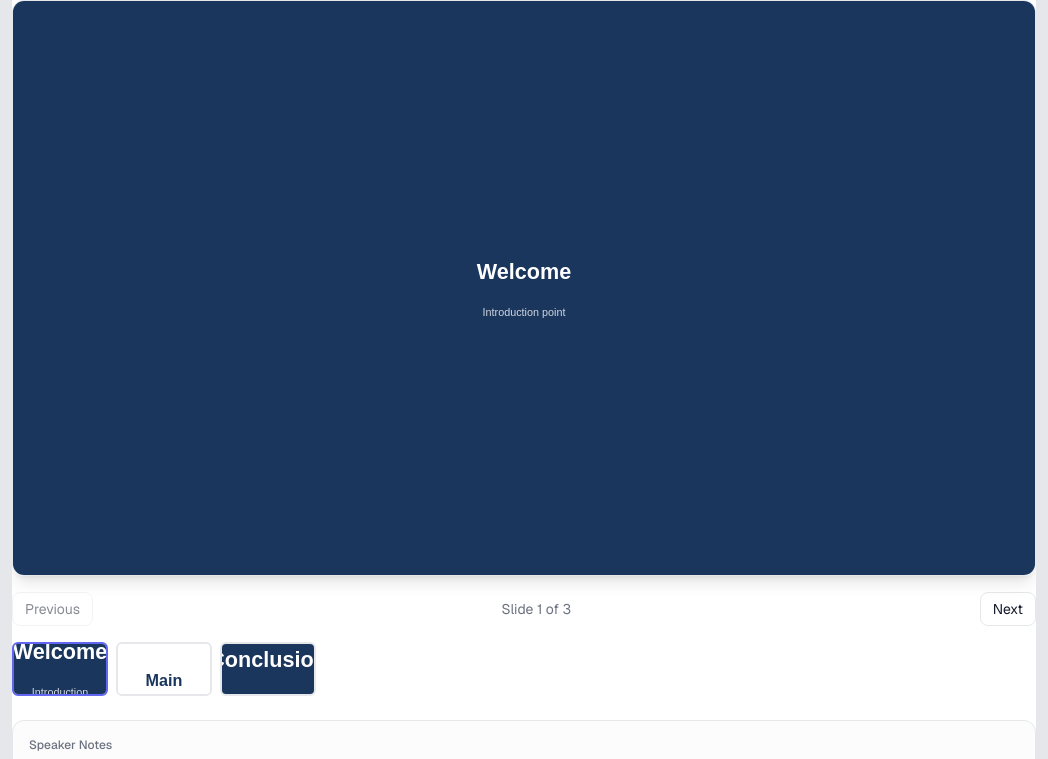
SlidePreview › disables next button on last slide
Click the button "Next": (1008, 609) [980,592,1036,626]
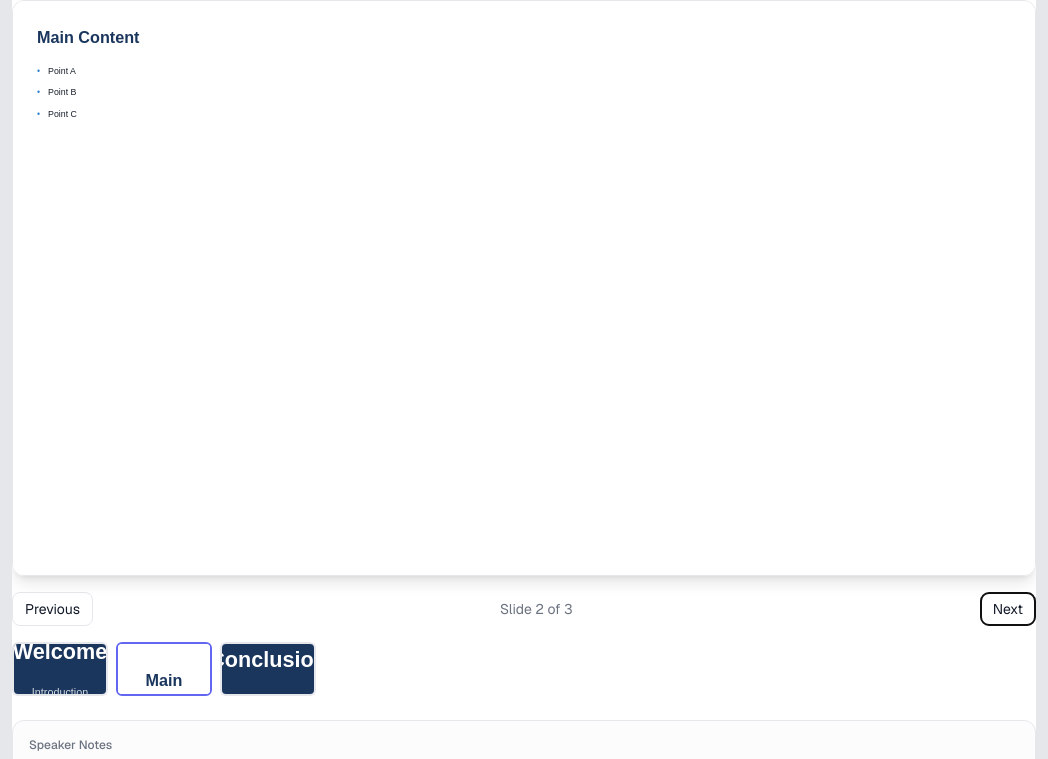
Click the button "Next": (1008, 609) [980,592,1036,626]
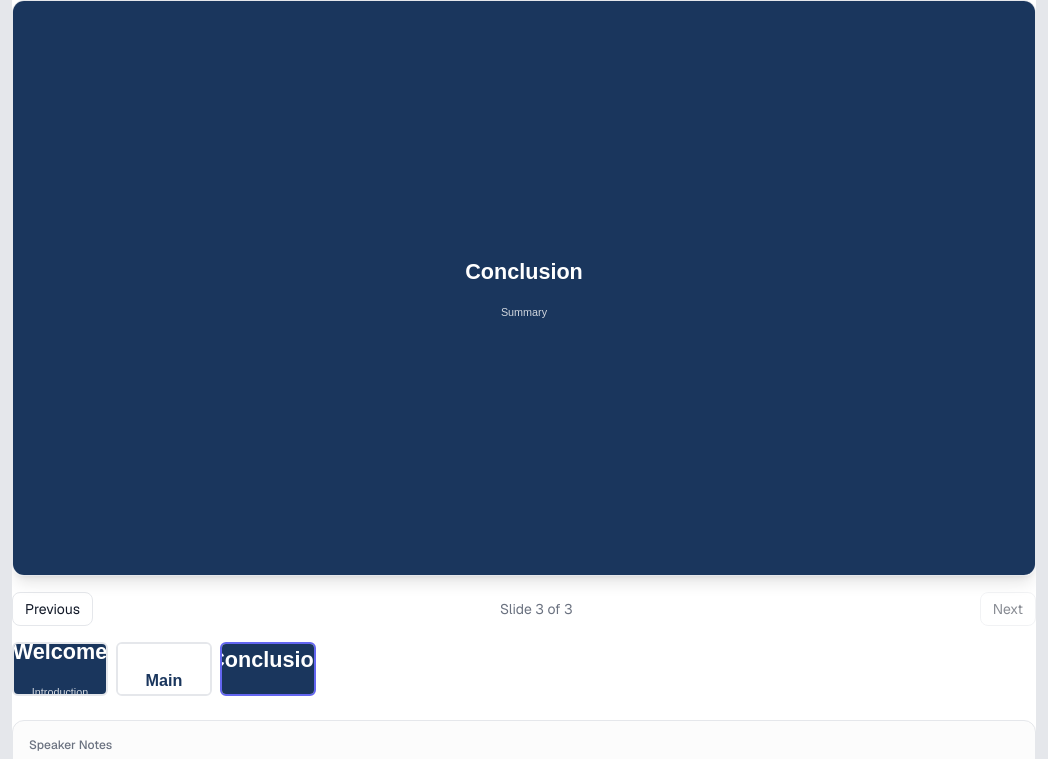
Result: the button "Next" is disabled at [980,592,1036,626]
